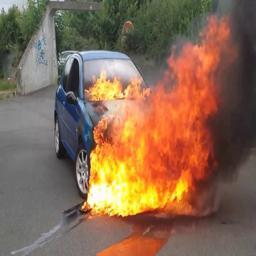fire: (84, 14, 233, 216), (86, 67, 152, 100)
